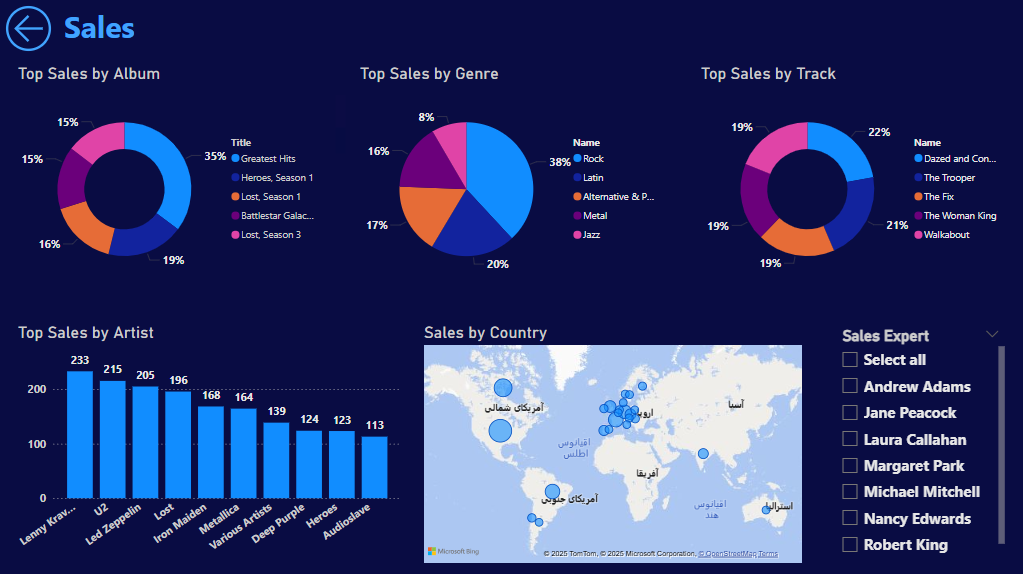

This screenshot's page, from the dashboard's own definition file:
{"tool":"powerbi","page":{"name":"Sales","canvas":[1280,720],"ordinal":2},"visuals":[{"type":"donutChart","title":"Top Sales by Album","fields":{"Category":["Album.Title"],"Y":["Measures (3).SumTotal"]},"box":[17.5,80,390,290],"z":0},{"type":"columnChart","title":"Top Sales by Artist","fields":{"Category":["Artist.Name"],"Y":["Measures (3).SumTotal"]},"box":[17.5,403.8,488.8,305],"z":1000},{"type":"pieChart","title":"Top Sales by Genre","fields":{"Category":["Genre.Name"],"Y":["Measures (3).SumTotal"]},"box":[445,80,390,290],"z":2000},{"type":"donutChart","title":"Top Sales by Track","fields":{"Category":["Track.Name"],"Y":["Measures (3).SumTotal"]},"box":[871.2,80,390,290],"z":3000},{"type":"map","title":"Sales by Country","fields":{"Category":["Customer.Country","Customer.State","Customer.City"],"Size":["Sum(Invoice.Total)"]},"box":[525,403.8,482.5,305],"z":4000},{"type":"slicer","fields":{"Values":["Employee.FullName"]},"box":[1040,403.8,221.2,305],"z":5000},{"type":"actionButton","box":[0,0,71.2,71.2],"z":6000},{"type":"textbox","box":[75,2.5,197.5,68.8],"z":7000}]}

Visuals, with their boxes in screenshot pixels (x1, y1, x2, y2), scaled from the page's 1280x720 canvas onto the 1023x574 screenshot:
"Top Sales by Album" donutChart: locate(14, 64, 326, 295)
"Top Sales by Artist" columnChart: locate(14, 322, 405, 565)
"Top Sales by Genre" pieChart: locate(356, 64, 667, 295)
"Top Sales by Track" donutChart: locate(696, 64, 1008, 295)
"Sales by Country" map: locate(420, 322, 805, 565)
slicer - Employee.FullName: locate(831, 322, 1008, 565)
actionButton: locate(0, 0, 57, 57)
textbox: locate(60, 2, 218, 57)
